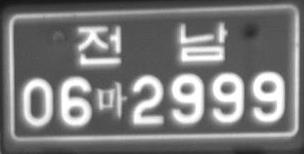0: (21, 77, 54, 126)
2: (132, 73, 164, 125)
6: (59, 74, 93, 127)
9: (170, 72, 205, 124), (252, 70, 287, 122), (211, 71, 245, 124)
마: (96, 80, 128, 119)
전남_D: (77, 20, 227, 66)
